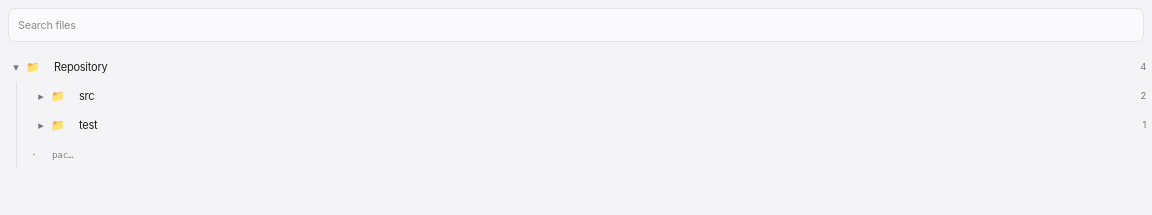
Scenario: RepositoryFileTree › renders directories collapsed and reveals nested files via search
Later steps or results of the test are not shown.
Expected: the text "package.json" is shown, [52, 148, 77, 161]
Expected: the text "caesarCipher.js" is not shown
In the search field named "Search files and directories": [576, 25] box [8, 8, 1144, 42], type "caesarCipher"
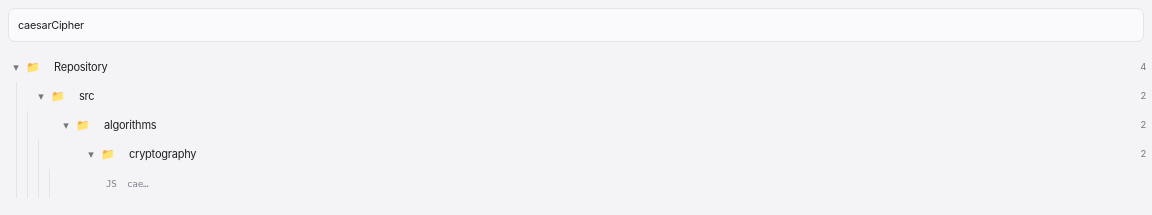
Now the text "caesarCipher.js" is shown, box [127, 176, 152, 190]
Now the text "cryptography" is shown, box [129, 146, 196, 163]
Replace the text in the search field named "Search files and directories" with "no-file-match": [576, 25] box [8, 8, 1144, 42]
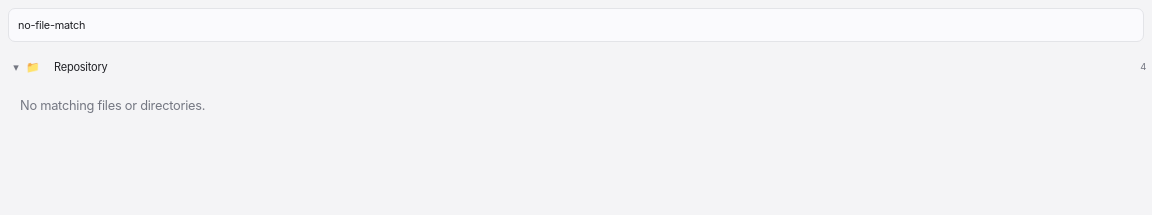
Now the text "No matching files or directories." is shown, box [20, 98, 205, 113]
